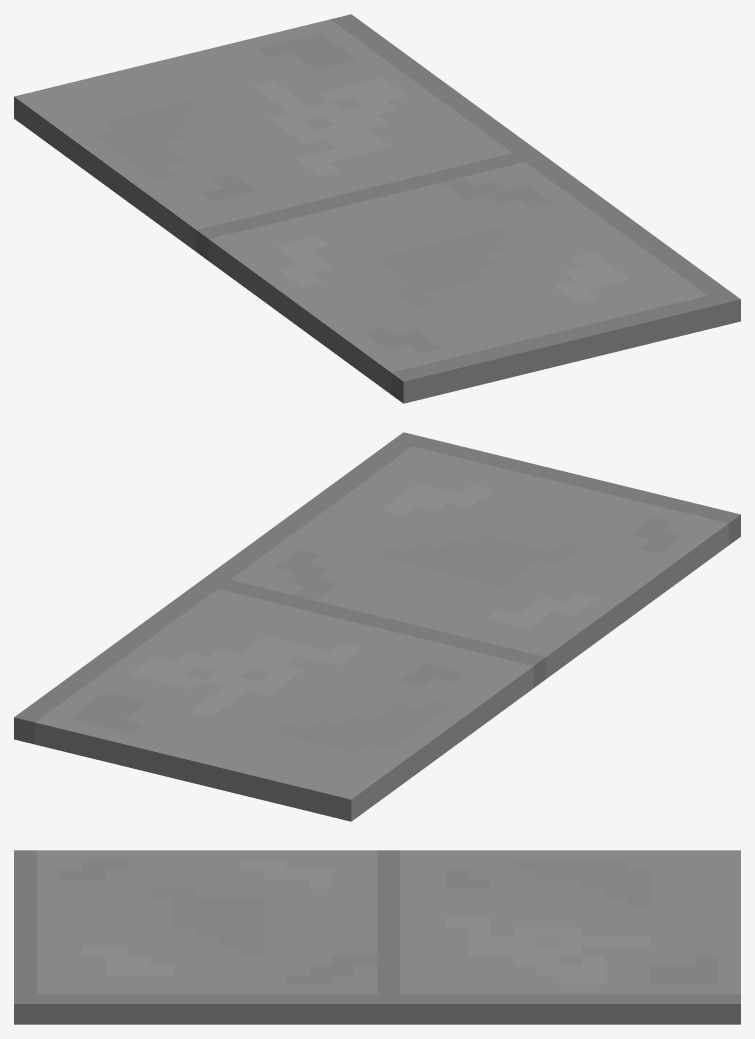
Rendered from sidewalk.gltf.
The picture shows the model from 3 angles, top to bottom: view 1: azimuth 30°, elevation 25°; view 2: azimuth 150°, elevation 25°; view 3: azimuth 270°, elevation 25°; orthographic projection. The views are drawn at different scales.
Visible parts, largest first — view 1: Layer.1; view 2: Layer.1; view 3: Layer.1.
Boxes of the visible parts, box(x1,y1,x2,y2) form: Layer.1: box(14, 14, 740, 403); Layer.1: box(14, 432, 740, 821); Layer.1: box(14, 850, 740, 1024).
Size of the model in its own units: 16 by 1 by 32.
1 material, 1 textured.
